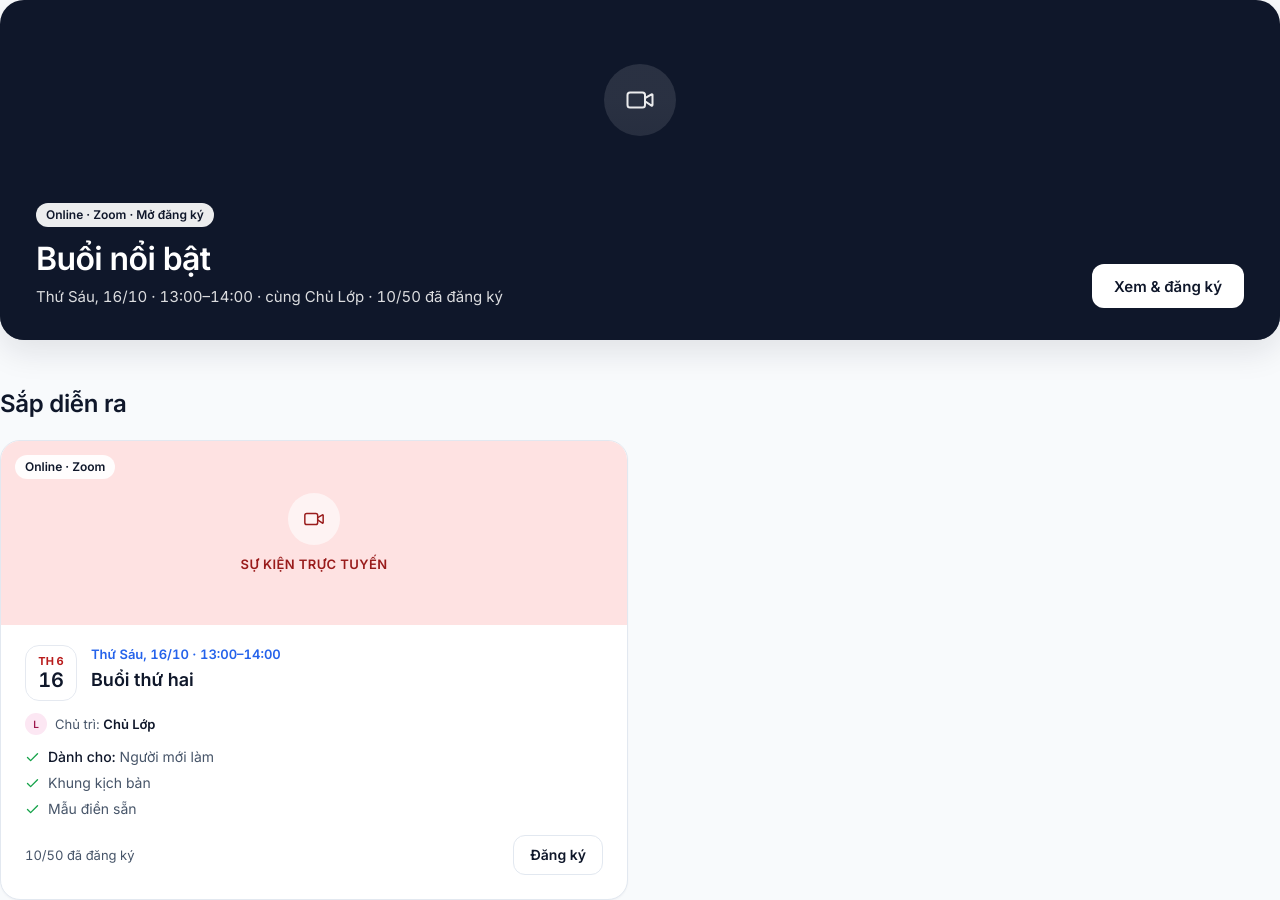
Test: EventsTab › a 409 "full" answer shows a friendly message and re-reads the event
This screenshot has width=1280, height=900.
(page scrolled)
Click the button with aria-label "Đăng ký Buổi thứ hai".
click(558, 855)  # box [513, 835, 603, 875]
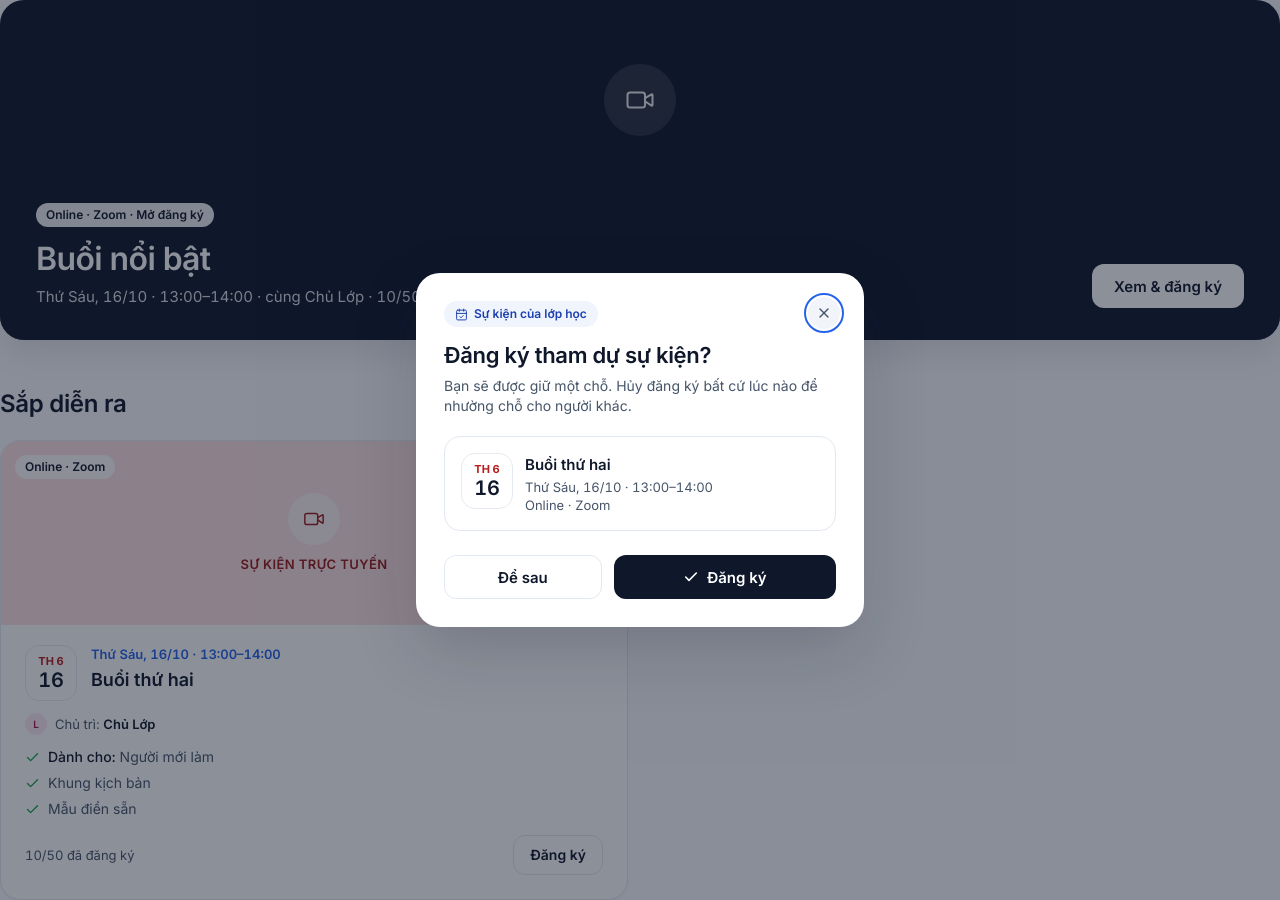
Click the button "Đăng ký".
click(725, 577)  # box [614, 555, 836, 599]
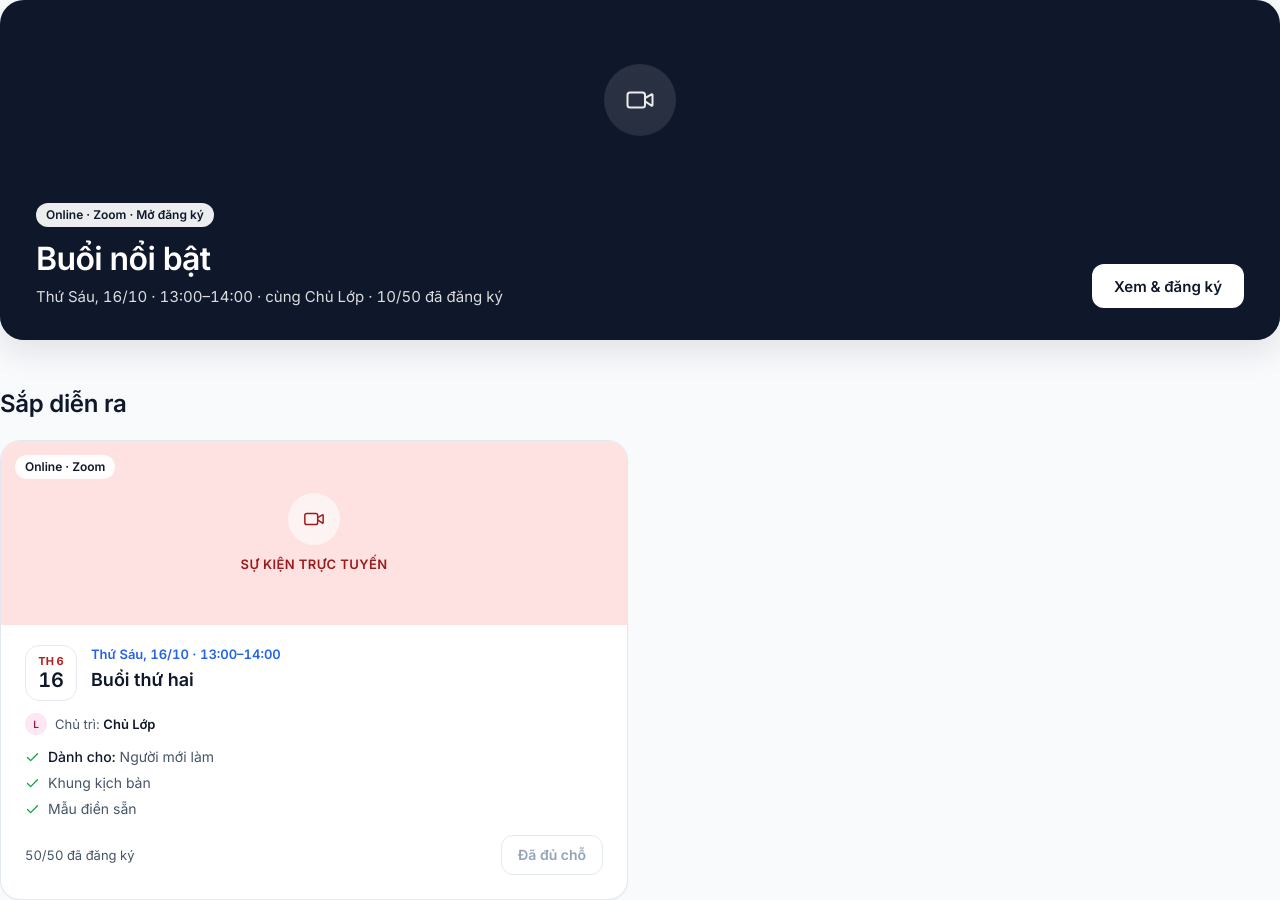
Now the button "Đã đủ chỗ" is disabled, box [501, 835, 603, 875]
